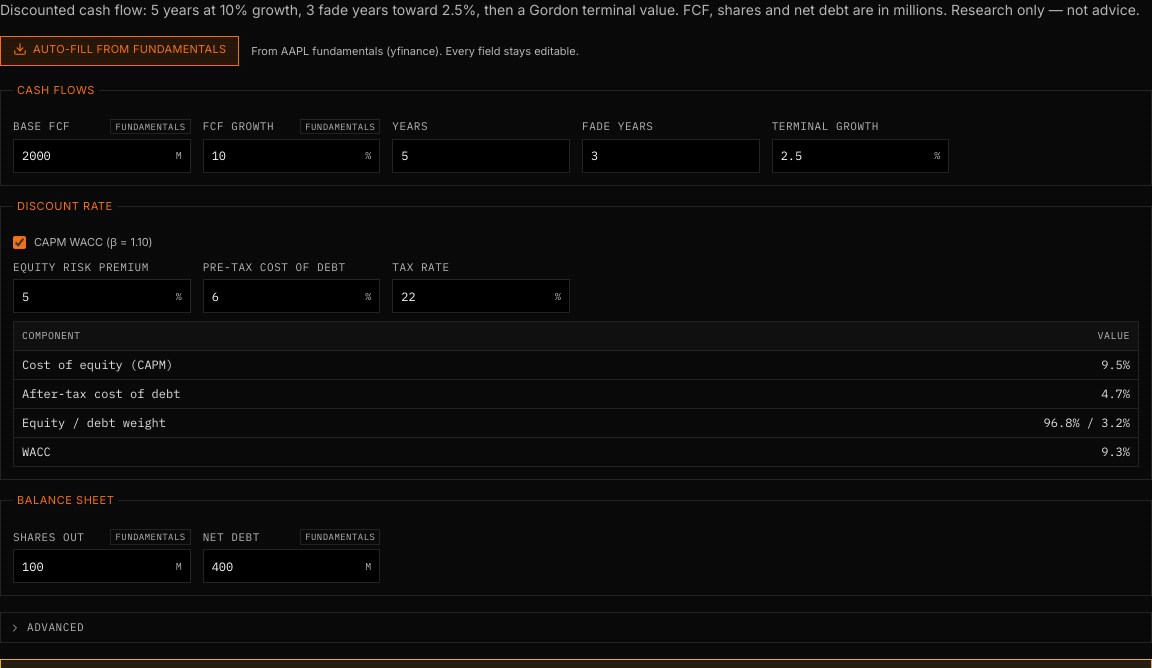
Test: ValuationSection › marks auto-filled fields and restores them after an edit
Replace the text in the number field labelled "Base FCF" with "1500". click: (95, 156)
box: [14,140,176,172]
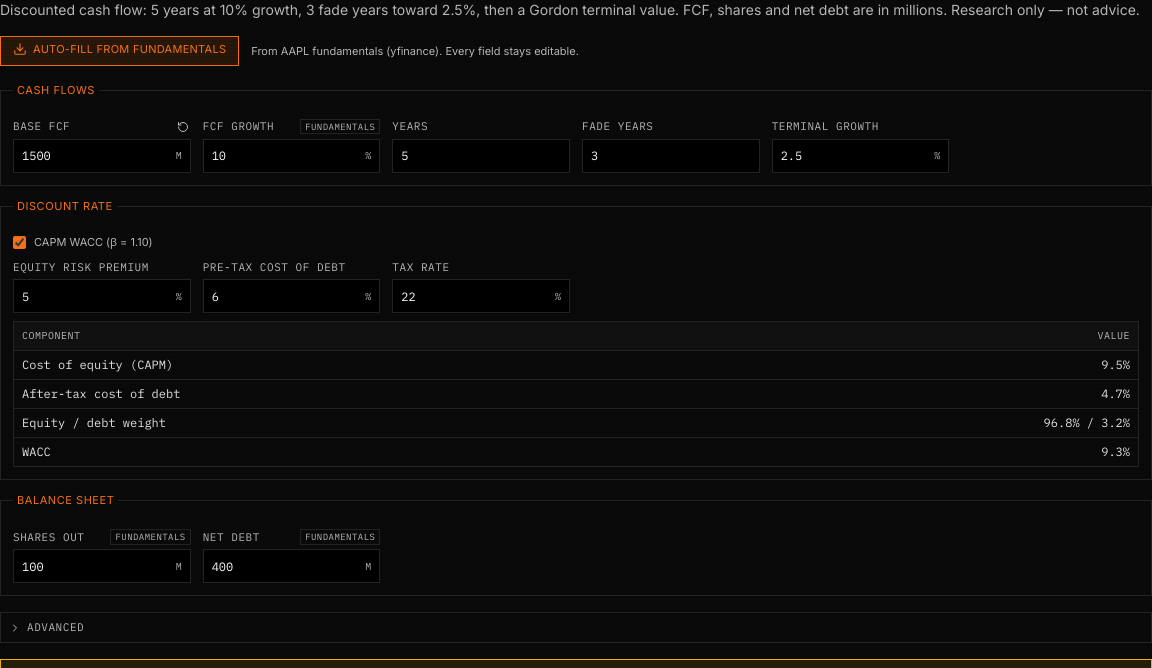
Click the button named "Reset Base FCF". click: (183, 126)
box: [175,118,191,134]
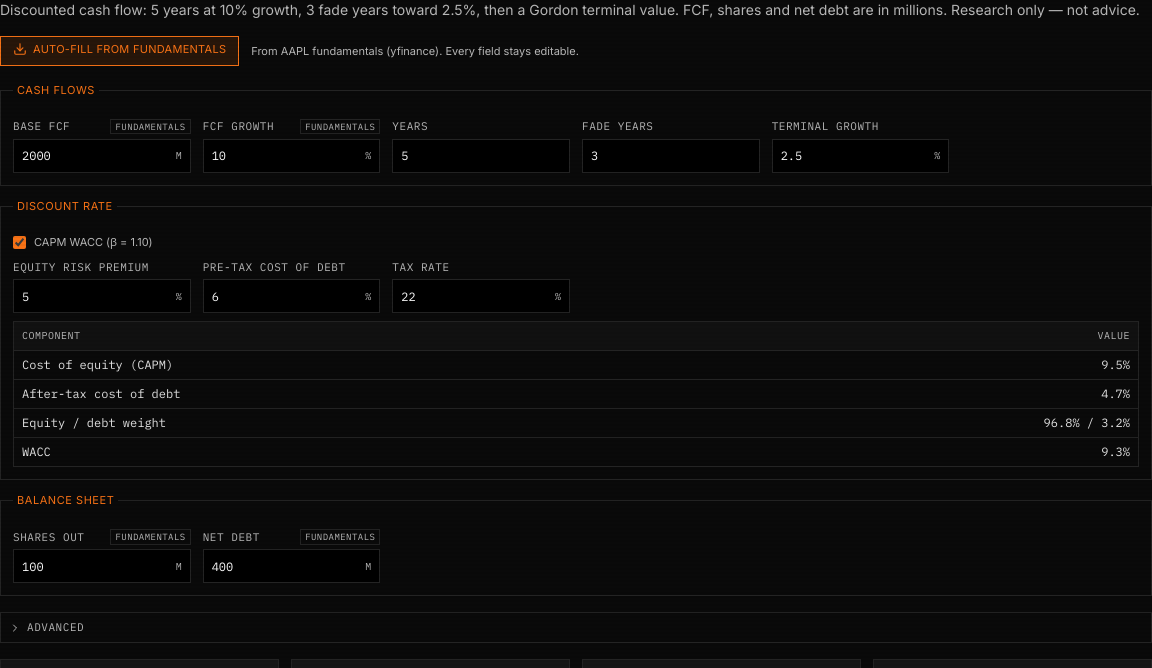
Expected: the number field labelled "Base FCF" holds "2000", [14,140,176,172]
